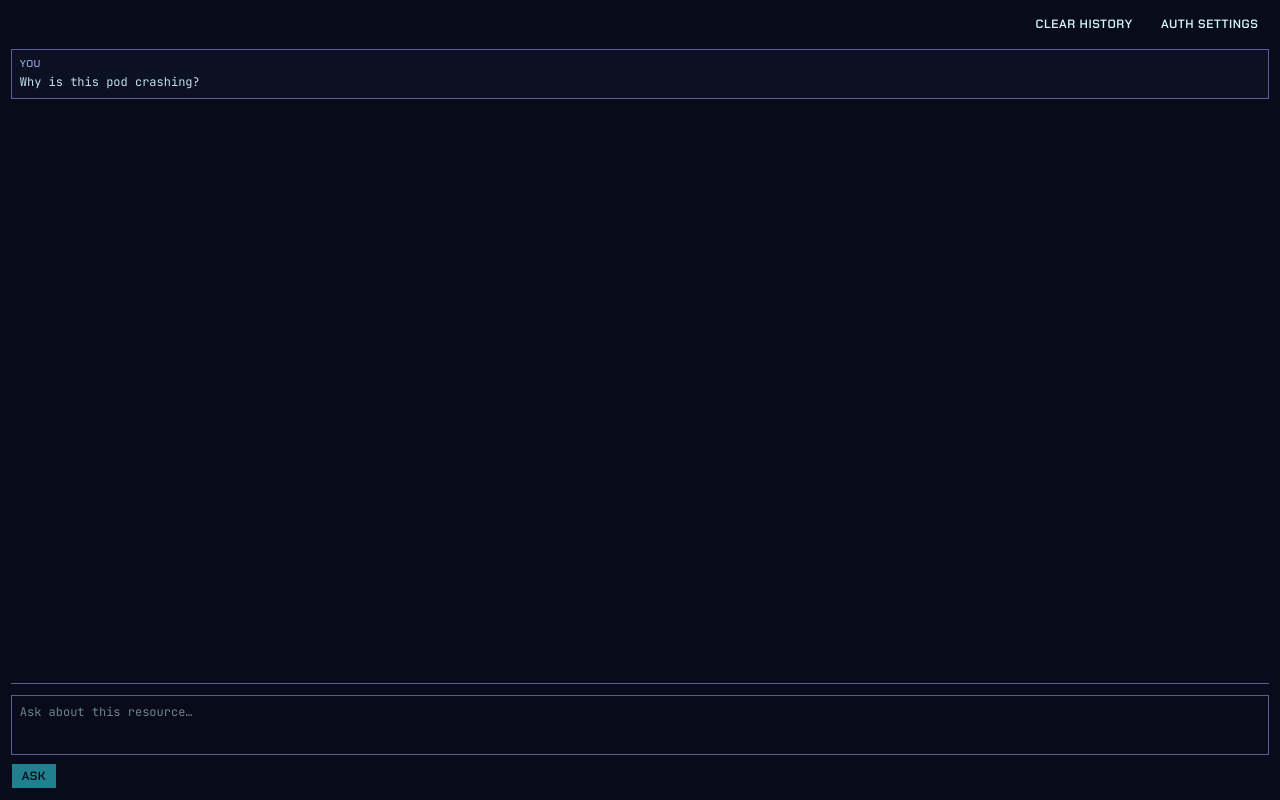
AgentPanel › "Clear history" asks for confirmation, and sends AgentClearConversation only on confirm
This screenshot has width=1280, height=800.
Step 1. Click the button with test id "agent-ops-clear-history" → (1084, 24), box [1025,11,1143,38]
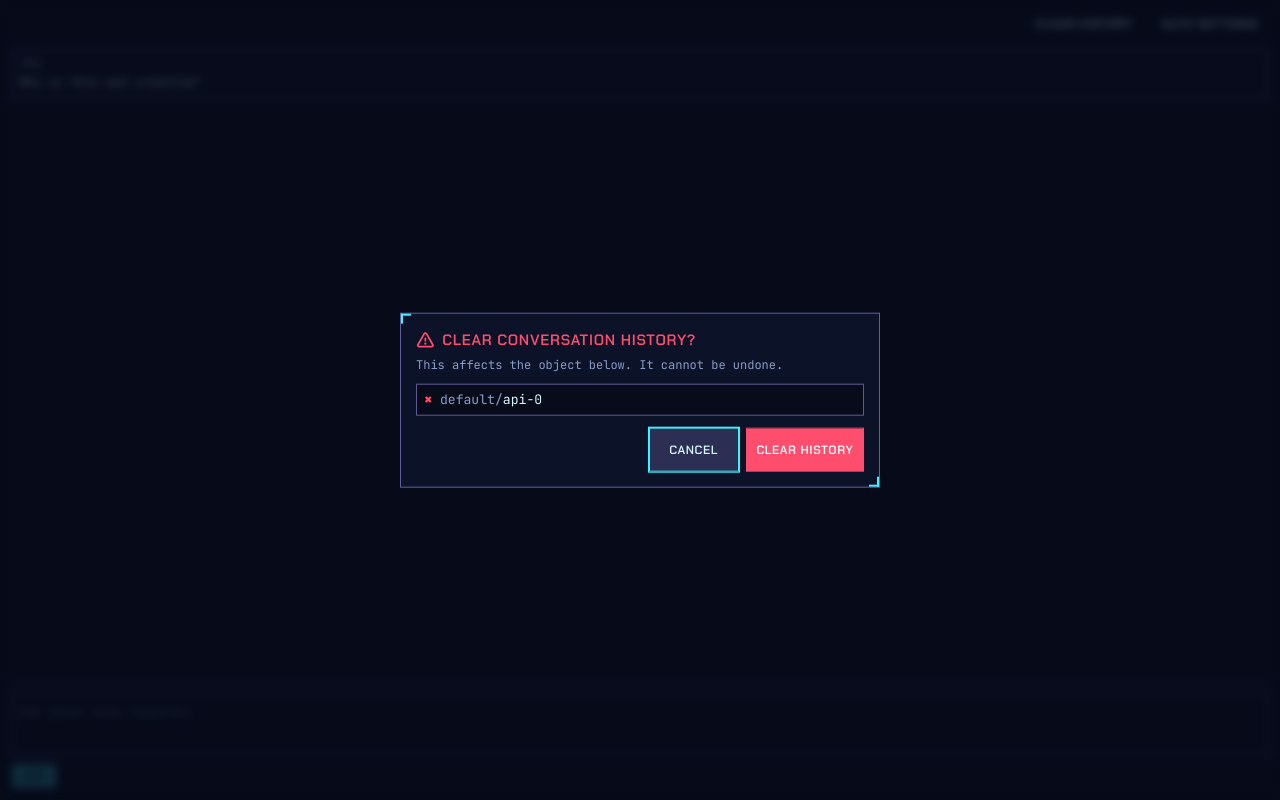
Now the dialog with test id "confirm-dialog" is shown, box [400,313,880,487]
Step 2. Click the button with test id "confirm-cancel" → (694, 449), box [649,427,739,471]
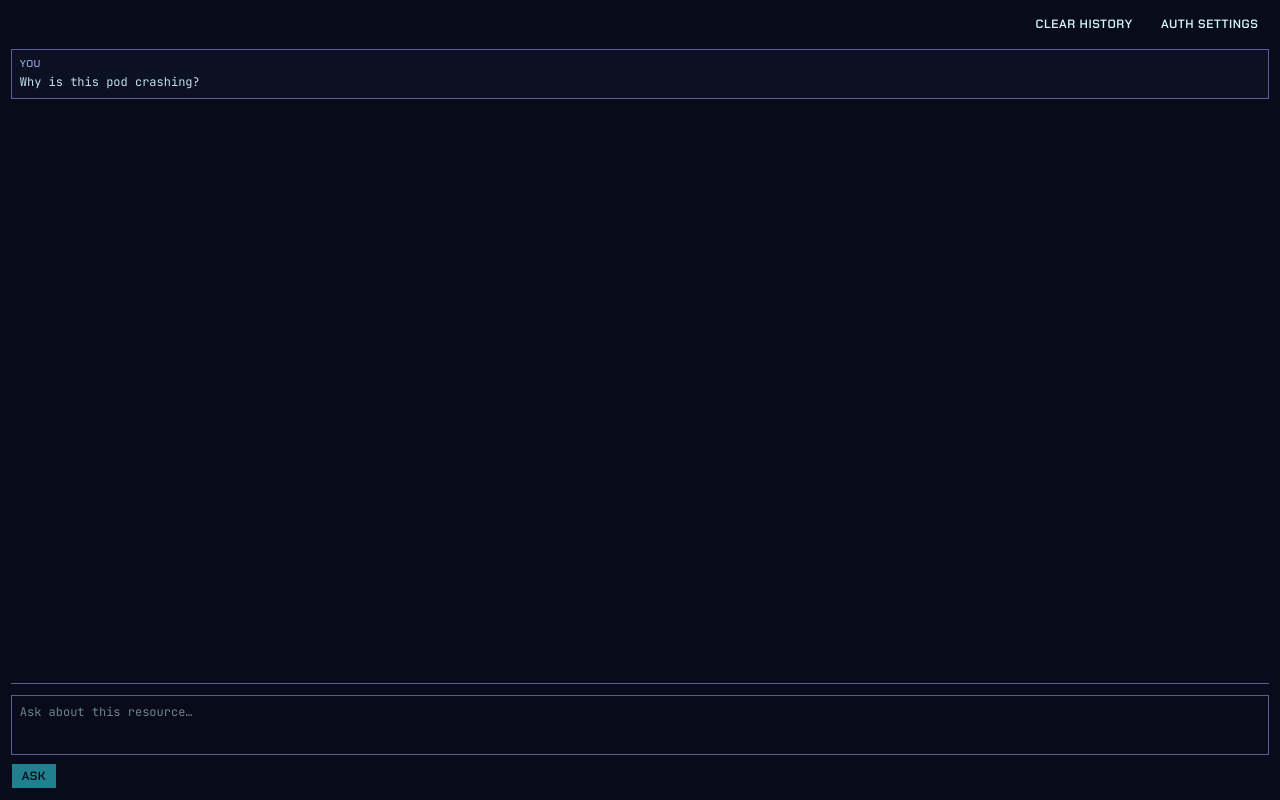
Now the dialog with test id "confirm-dialog" is gone
Step 3. Click the button with test id "agent-ops-clear-history" → (1084, 24), box [1025,11,1143,38]
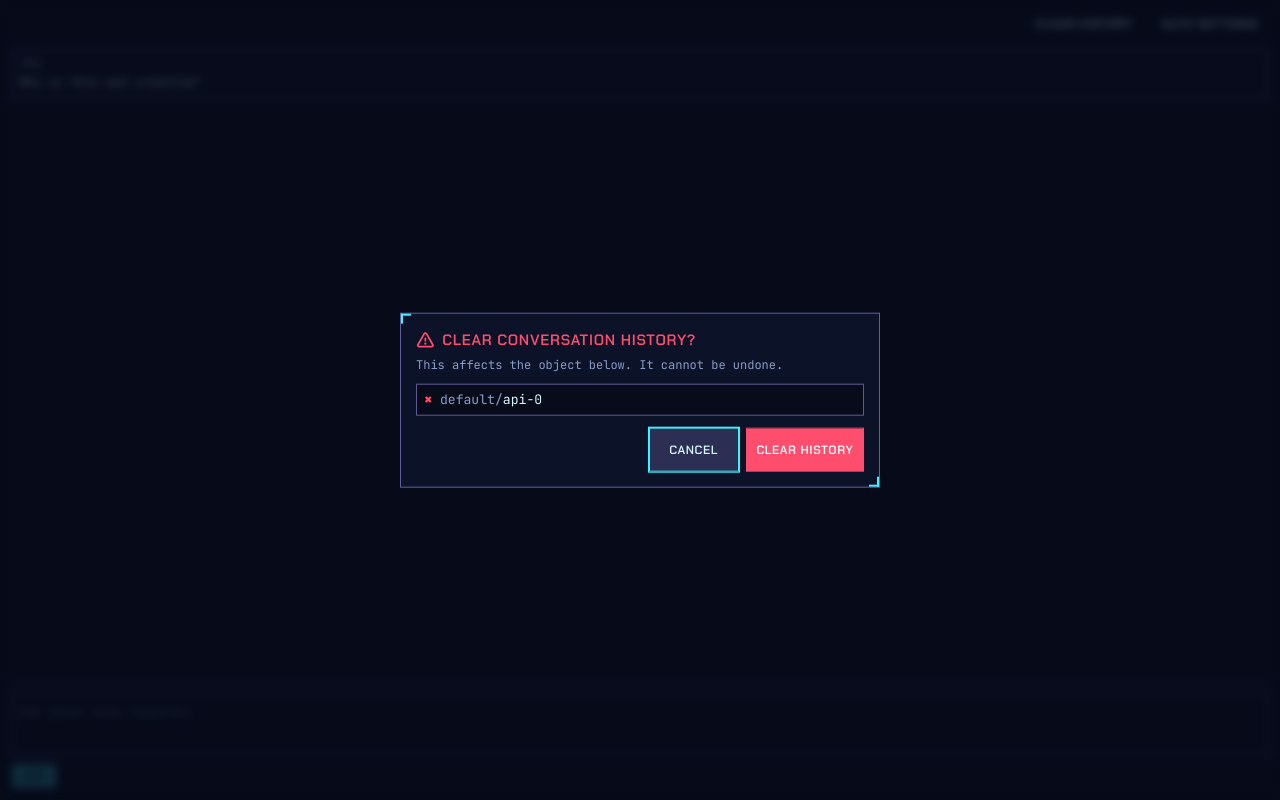
Step 4. Click the button with test id "confirm-submit" → (805, 449), box [746,427,864,471]
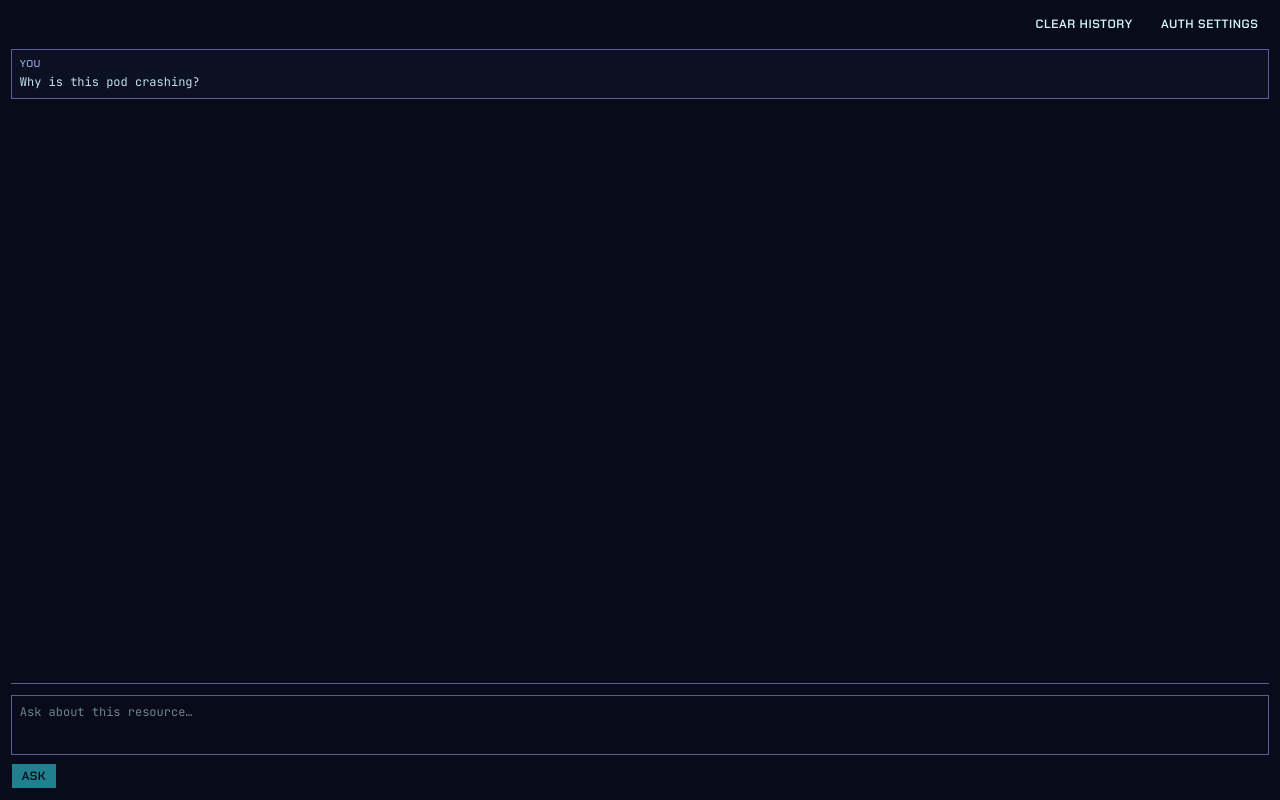
Now the dialog with test id "confirm-dialog" is gone
